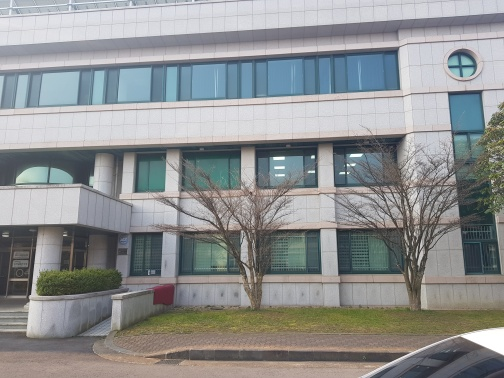Information Telecommunication Center: (6, 6, 500, 310)
